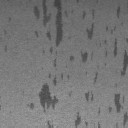red iron: (30, 0, 80, 112), (69, 10, 128, 76), (76, 93, 128, 128), (85, 92, 94, 101), (4, 29, 7, 52), (116, 5, 121, 18), (94, 72, 98, 84), (48, 120, 54, 128)
